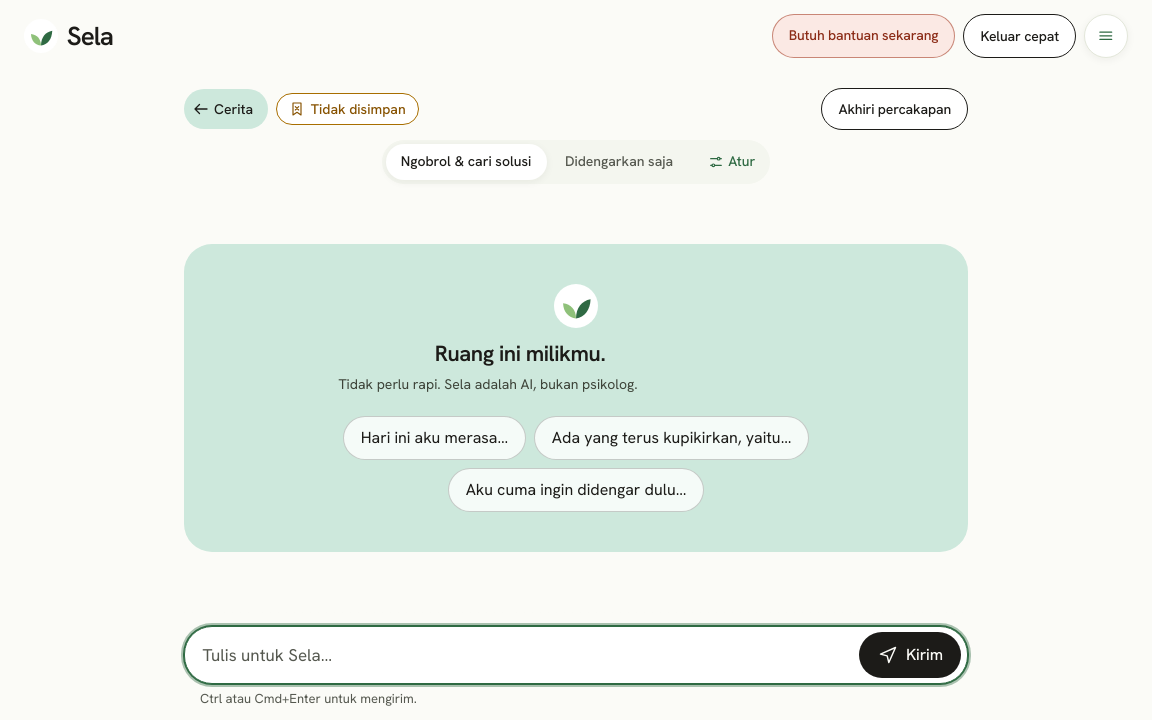
Test: home, notes and conversations › opens quick-help mode at once when a message reads as danger
Type "Aku mau bunuh dia." into the text box labelled "Tulis untuk Sela".
click(522, 655); type("Aku mau bunuh dia.")  # box 191,633 -> 853,678
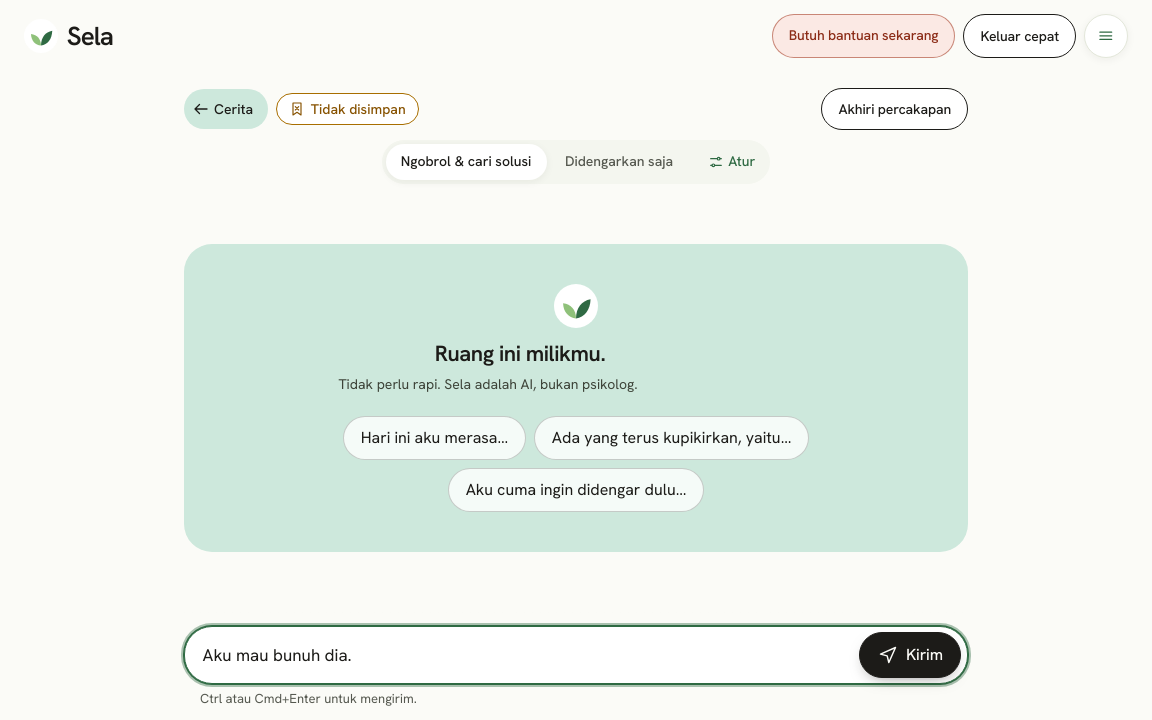
Click the button "Kirim".
click(910, 655)  # box 859,632 -> 961,678
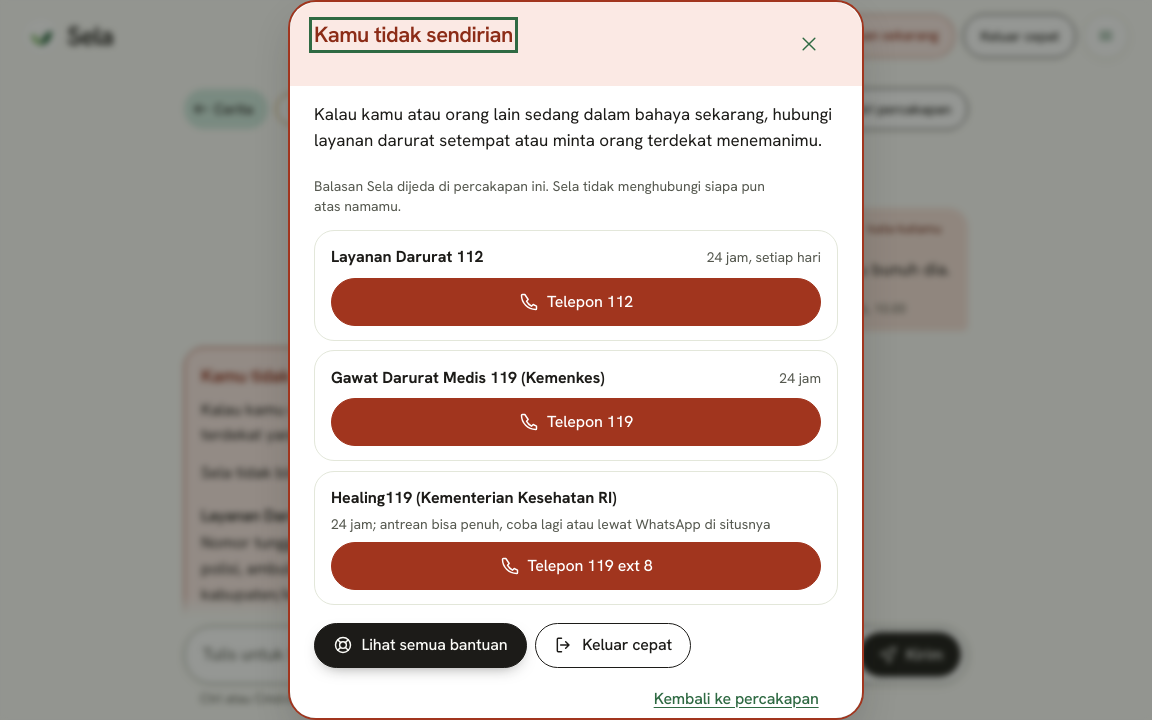
Result: the button "Keluar cepat" is shown at 535,623 -> 691,668
